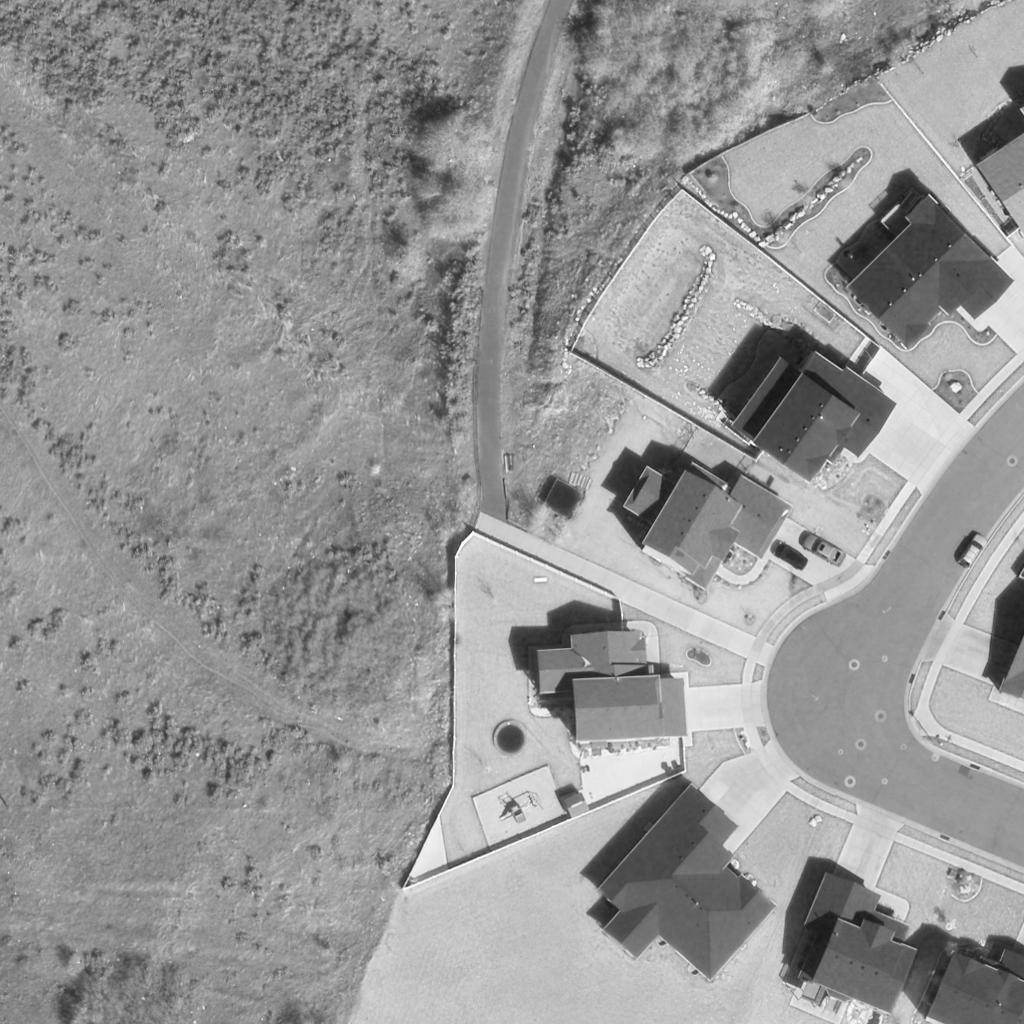vehicle: (799, 533, 847, 567), (956, 533, 990, 571), (771, 543, 807, 571)
